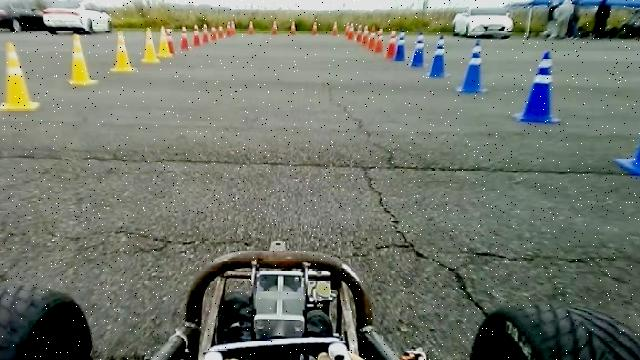blue cone: (516, 49, 561, 123), (458, 38, 490, 93), (427, 34, 451, 78), (410, 31, 426, 68), (394, 31, 406, 61)
red cone: (386, 30, 398, 59), (166, 28, 176, 54), (180, 26, 190, 50), (374, 29, 384, 52), (192, 25, 202, 46), (202, 24, 210, 44), (210, 26, 218, 41)
yellow cone: (0, 40, 41, 111), (66, 32, 98, 86), (111, 29, 135, 72), (142, 27, 160, 63)
